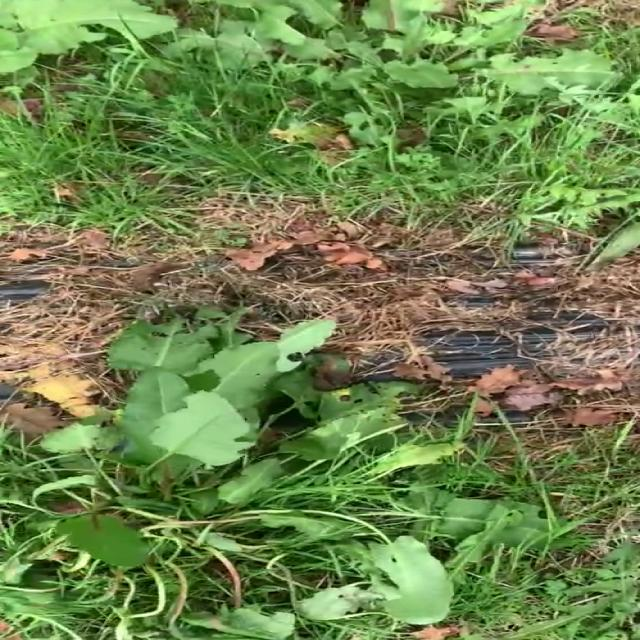organic waste: (0, 315, 453, 640), (127, 0, 640, 139), (0, 0, 190, 99)
